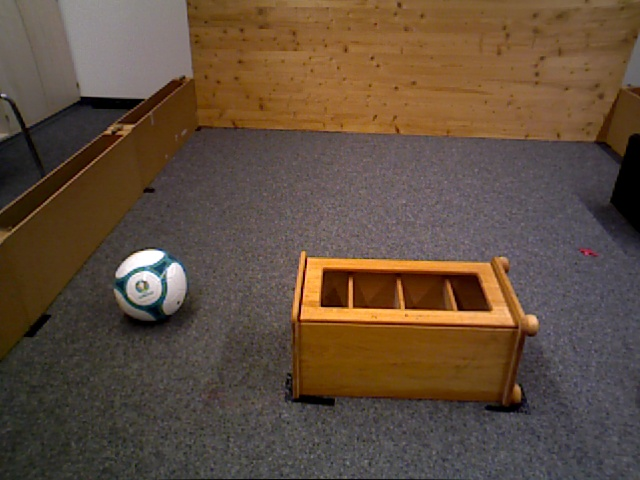kick: (112, 247, 188, 324)
push: (610, 135, 640, 242)
